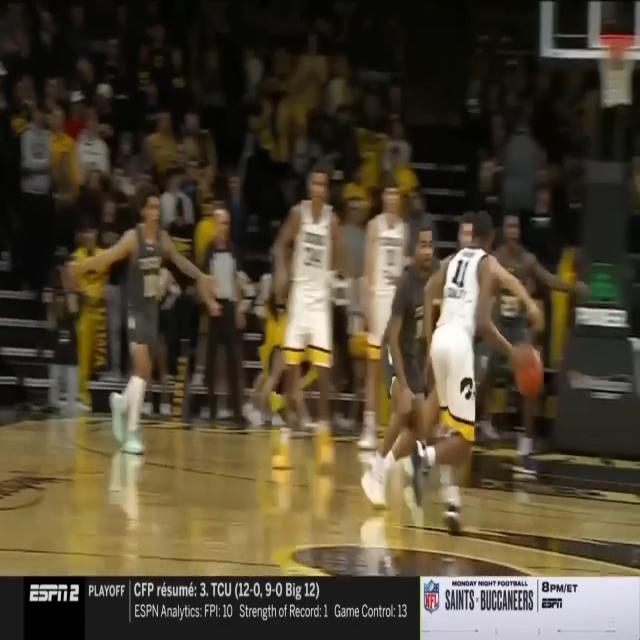Ball: (516, 347, 543, 396)
Hoop: (598, 34, 636, 106)
Overlay: (0, 576, 640, 640)
Player: (66, 189, 216, 455), (410, 216, 531, 535), (464, 213, 589, 477), (422, 214, 541, 487), (270, 165, 360, 473), (359, 222, 451, 507), (357, 178, 408, 450)
Ref: (202, 206, 254, 430)
